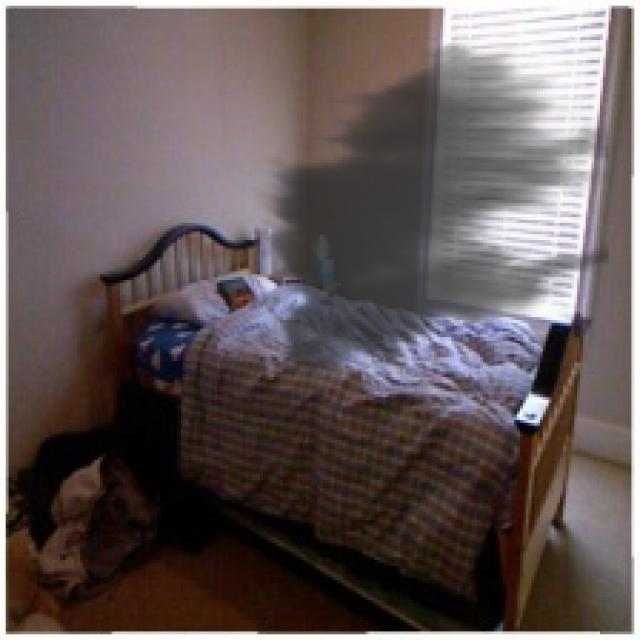smoke: (248, 31, 608, 392)
